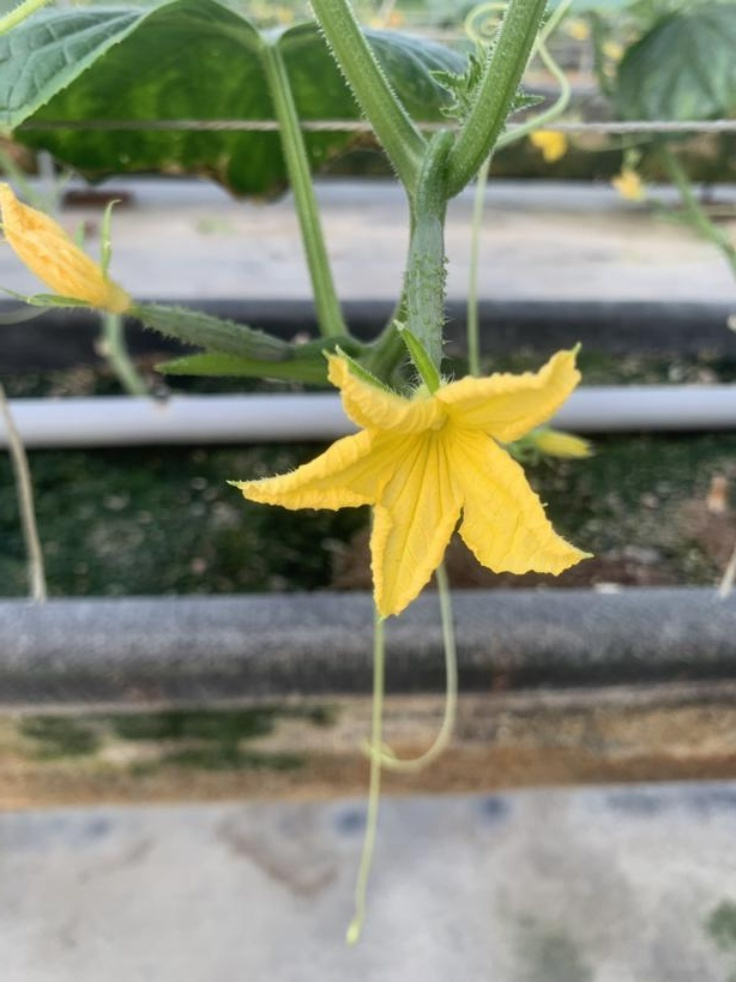bear: (4, 187, 299, 370)
flowering: (228, 292, 609, 628)
